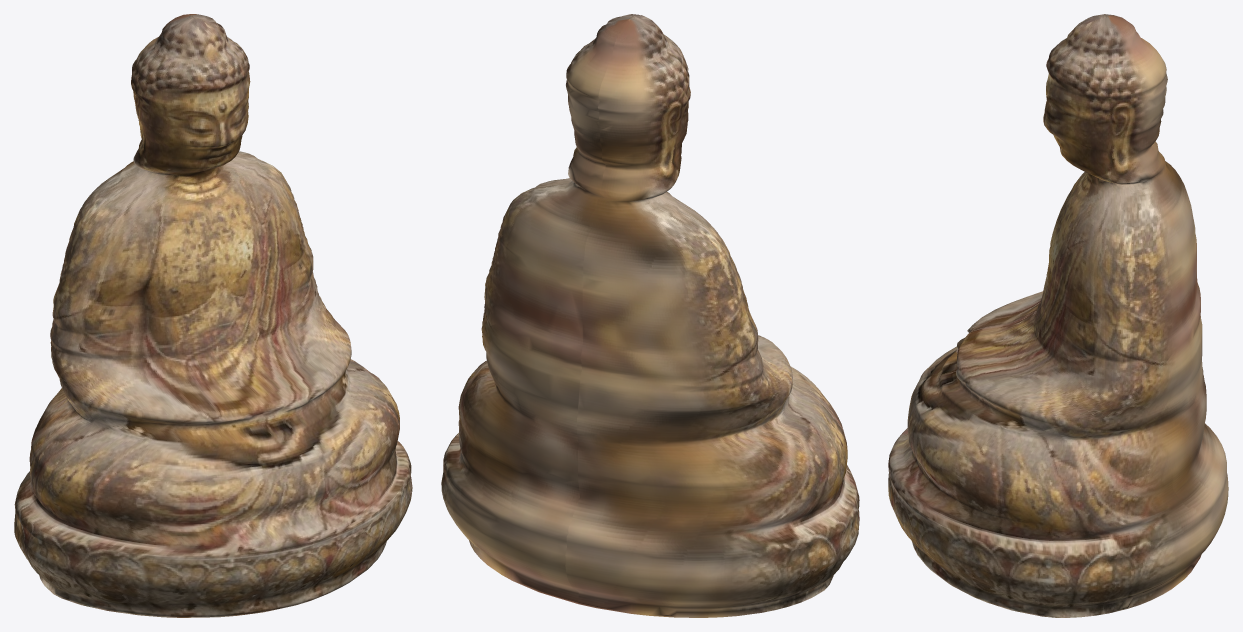
Rendered from grotto-buddha.glb.
The picture shows the model from 3 angles, left to right: view 1: azimuth 30°, elevation 25°; view 2: azimuth 150°, elevation 25°; view 3: azimuth 270°, elevation 25°; orthographic projection. The views are drawn at different scales.
Visible parts, largest first — view 1: grotto-buddha; view 2: grotto-buddha; view 3: grotto-buddha.
Part boxes in pixels (<box>): grotto-buddha: <box>14,14,412,617</box>; grotto-buddha: <box>441,14,859,617</box>; grotto-buddha: <box>888,14,1228,617</box>.
Bounding box in the file's own units: 0.7357 × 1 × 0.5875.
1 material, 1 textured.
